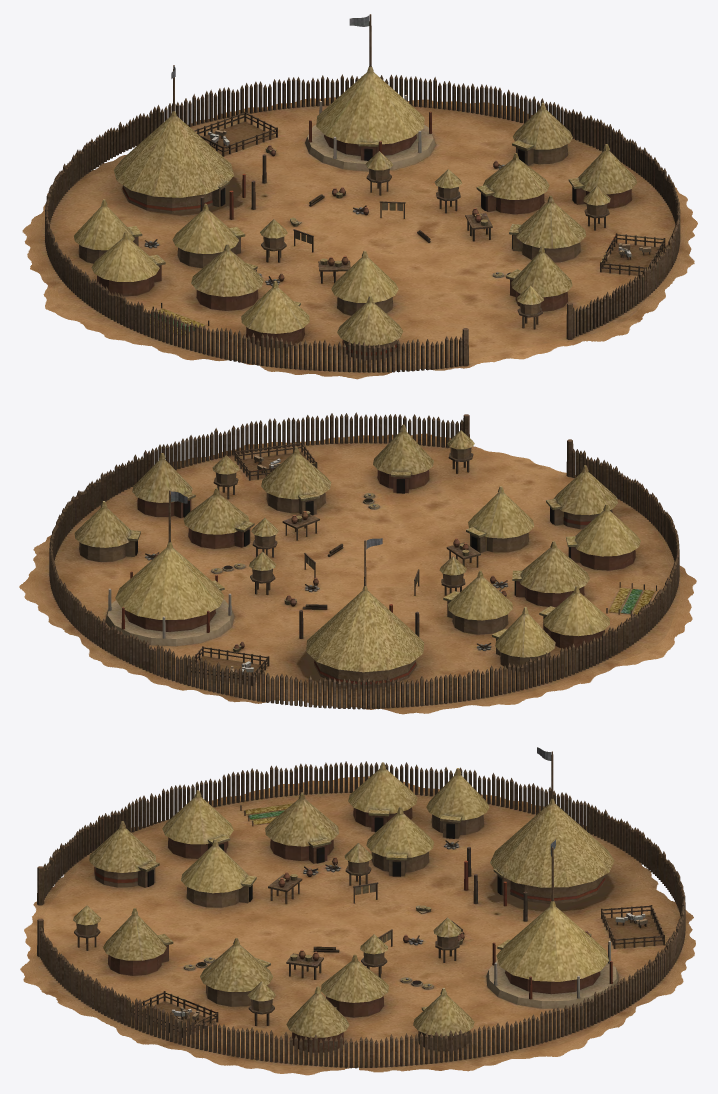
The model's file is stone-town-medium-a.glb.
3 views of the same model, one above another, from view 1: azimuth 30°, elevation 25°; view 2: azimuth 150°, elevation 25°; view 3: azimuth 270°, elevation 25° (orthographic). The views are drawn at different scales.
Parts seen in each view (by area): view 1: LOD0; view 2: LOD0; view 3: LOD0.
Part boxes in pixels (x1,y1,x2,y2): LOD0: (22, 14, 697, 379); LOD0: (19, 412, 696, 714); LOD0: (20, 747, 695, 1075).
Size of what is drawn, in the model's own units: 6.01 by 1.25 by 5.74.
Materials: 3 (3 with a texture image).
